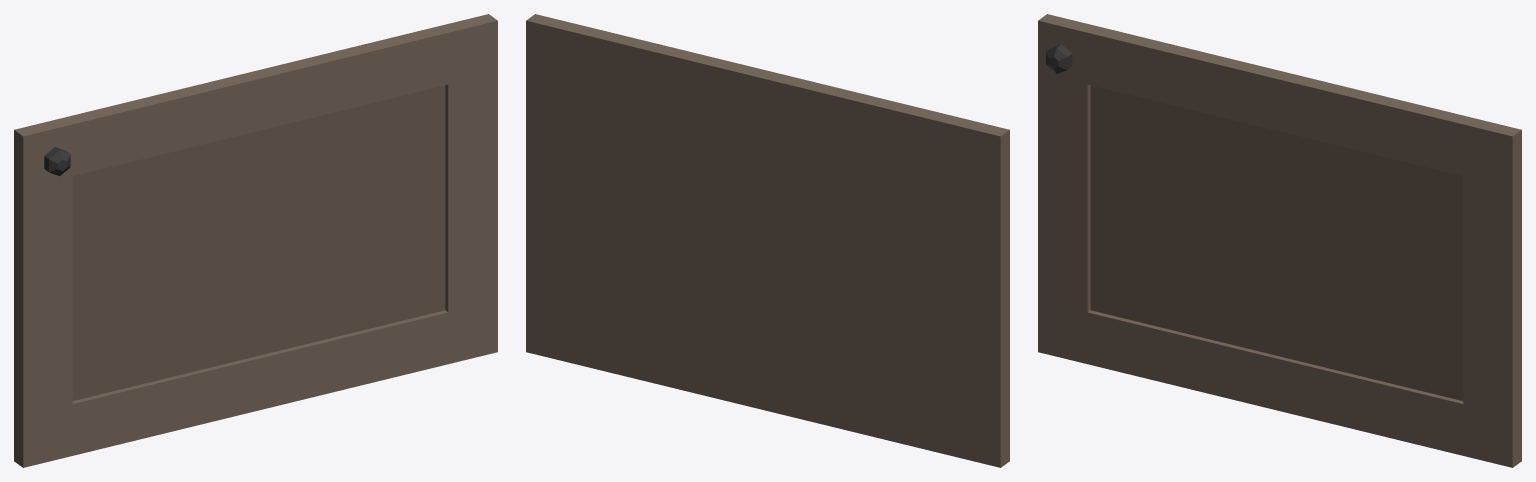
The model's file is TV_Table3_C3_02.fbx.
3 views of the same model, side by side, from view 1: azimuth 30°, elevation 25°; view 2: azimuth 150°, elevation 25°; view 3: azimuth 330°, elevation 25° (orthographic).
Visible parts, largest first — view 1: TV_Table3_C3_02; view 2: TV_Table3_C3_02; view 3: TV_Table3_C3_02.
Boxes of the visible parts, x1=… form: TV_Table3_C3_02: x1=14, y1=14, x2=497, y2=467; TV_Table3_C3_02: x1=526, y1=14, x2=1009, y2=467; TV_Table3_C3_02: x1=1038, y1=14, x2=1521, y2=467.
Size of the model in its own units: 59.97 by 40.02 by 4.58.
